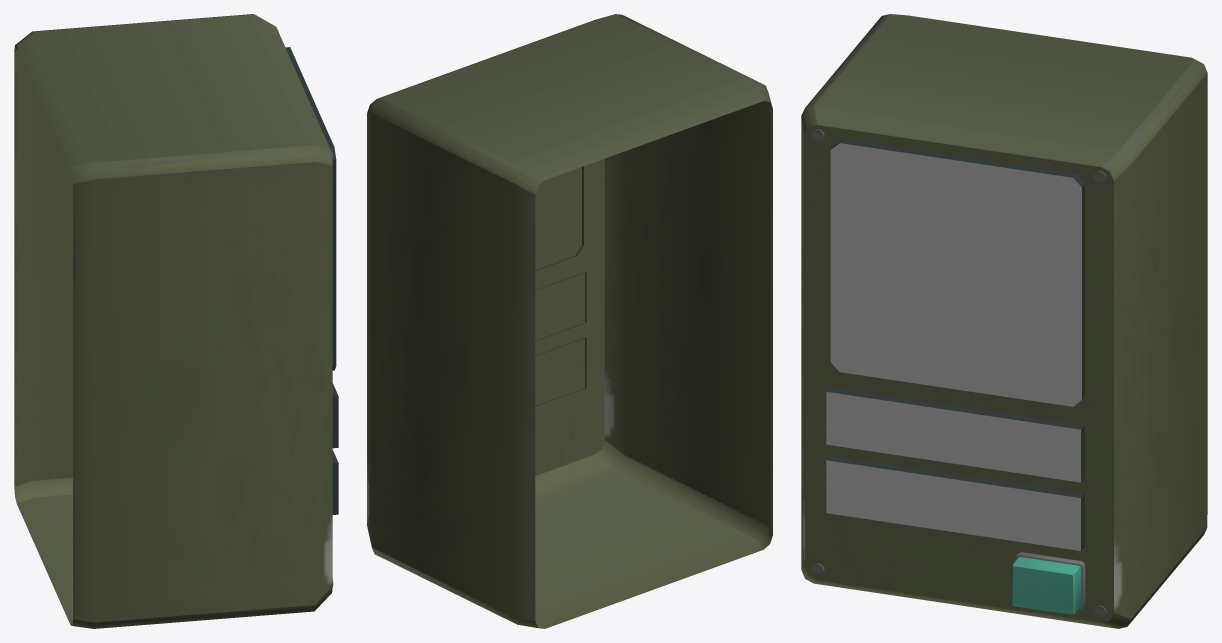
File: CompassCoord_Box.fbx
3 renders of one model, left to right at view 1: azimuth 30°, elevation 25°; view 2: azimuth 150°, elevation 25°; view 3: azimuth 270°, elevation 25°, orthographic. The views are drawn at different scales.
Visible parts, largest first — view 1: compassCoord_box; view 2: compassCoord_box; view 3: compassCoord_box, coord_readout_01, coord_readout_02, coordBtn_v1.
Part boxes in pixels (left/top/right/bottom): compassCoord_box: left=14, top=14, right=336, bottom=628; compassCoord_box: left=367, top=14, right=772, bottom=628; compassCoord_box: left=801, top=14, right=1207, bottom=628; coord_readout_01: left=826, top=387, right=1084, bottom=482; coord_readout_02: left=826, top=456, right=1084, bottom=550; coordBtn_v1: left=1012, top=557, right=1081, bottom=614.
Size of the model in its own units: 1.71 by 2.38 by 1.84.
